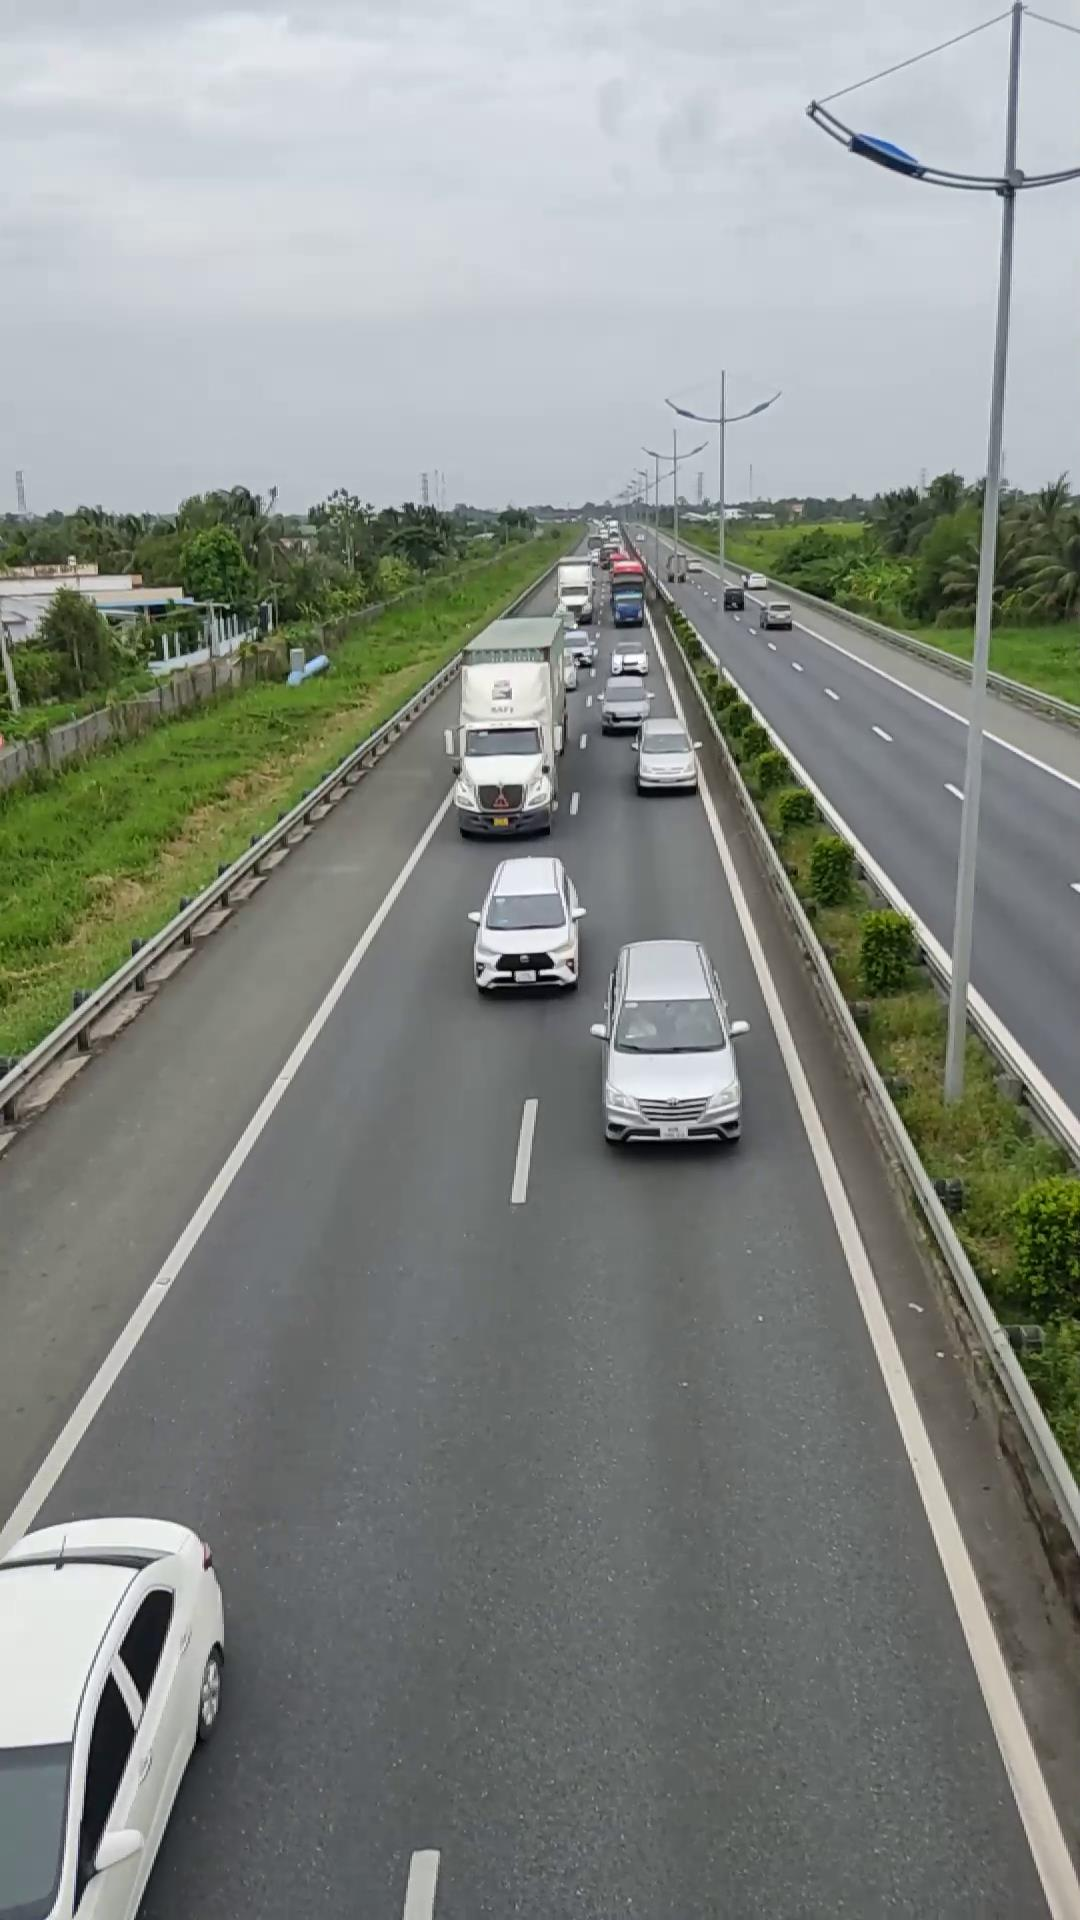car: (0, 1514, 231, 1919), (593, 938, 745, 1147), (467, 852, 585, 994), (632, 717, 702, 794)
container: (447, 613, 571, 836)
